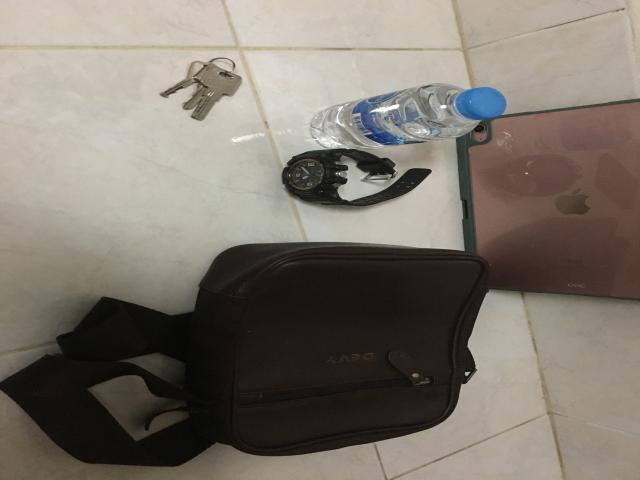Keys: (160, 57, 242, 120)
Watch: (282, 148, 432, 206)
bottle: (310, 83, 505, 148)
